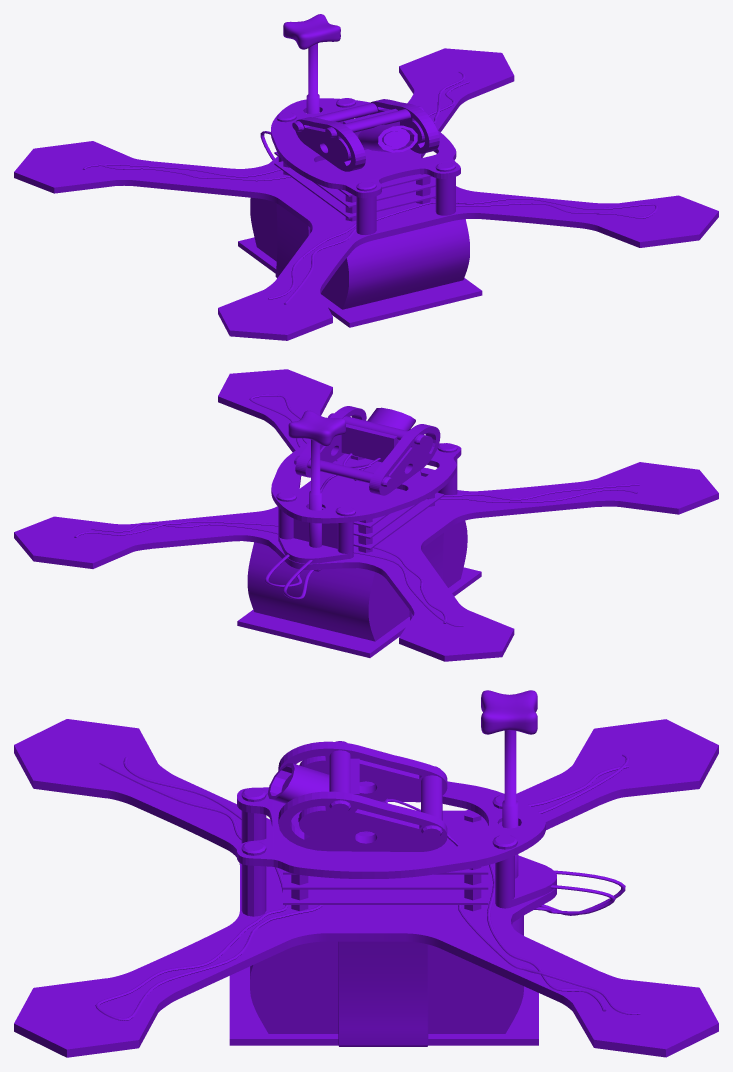
File: bodyljubicasti.fbx
3 views of the same model, one above another, from view 1: azimuth 30°, elevation 25°; view 2: azimuth 150°, elevation 25°; view 3: azimuth 270°, elevation 25° (orthographic). The views are drawn at different scales.
Parts seen in each view (by area): view 1: Drone; view 2: Drone; view 3: Drone.
Part boxes in pixels (x1=…): Drone: x1=14, y1=14, x2=718, y2=340; Drone: x1=14, y1=369, x2=718, y2=661; Drone: x1=14, y1=690, x2=718, y2=1057.
Bounding box in the file's own units: 594 × 254 × 535.
